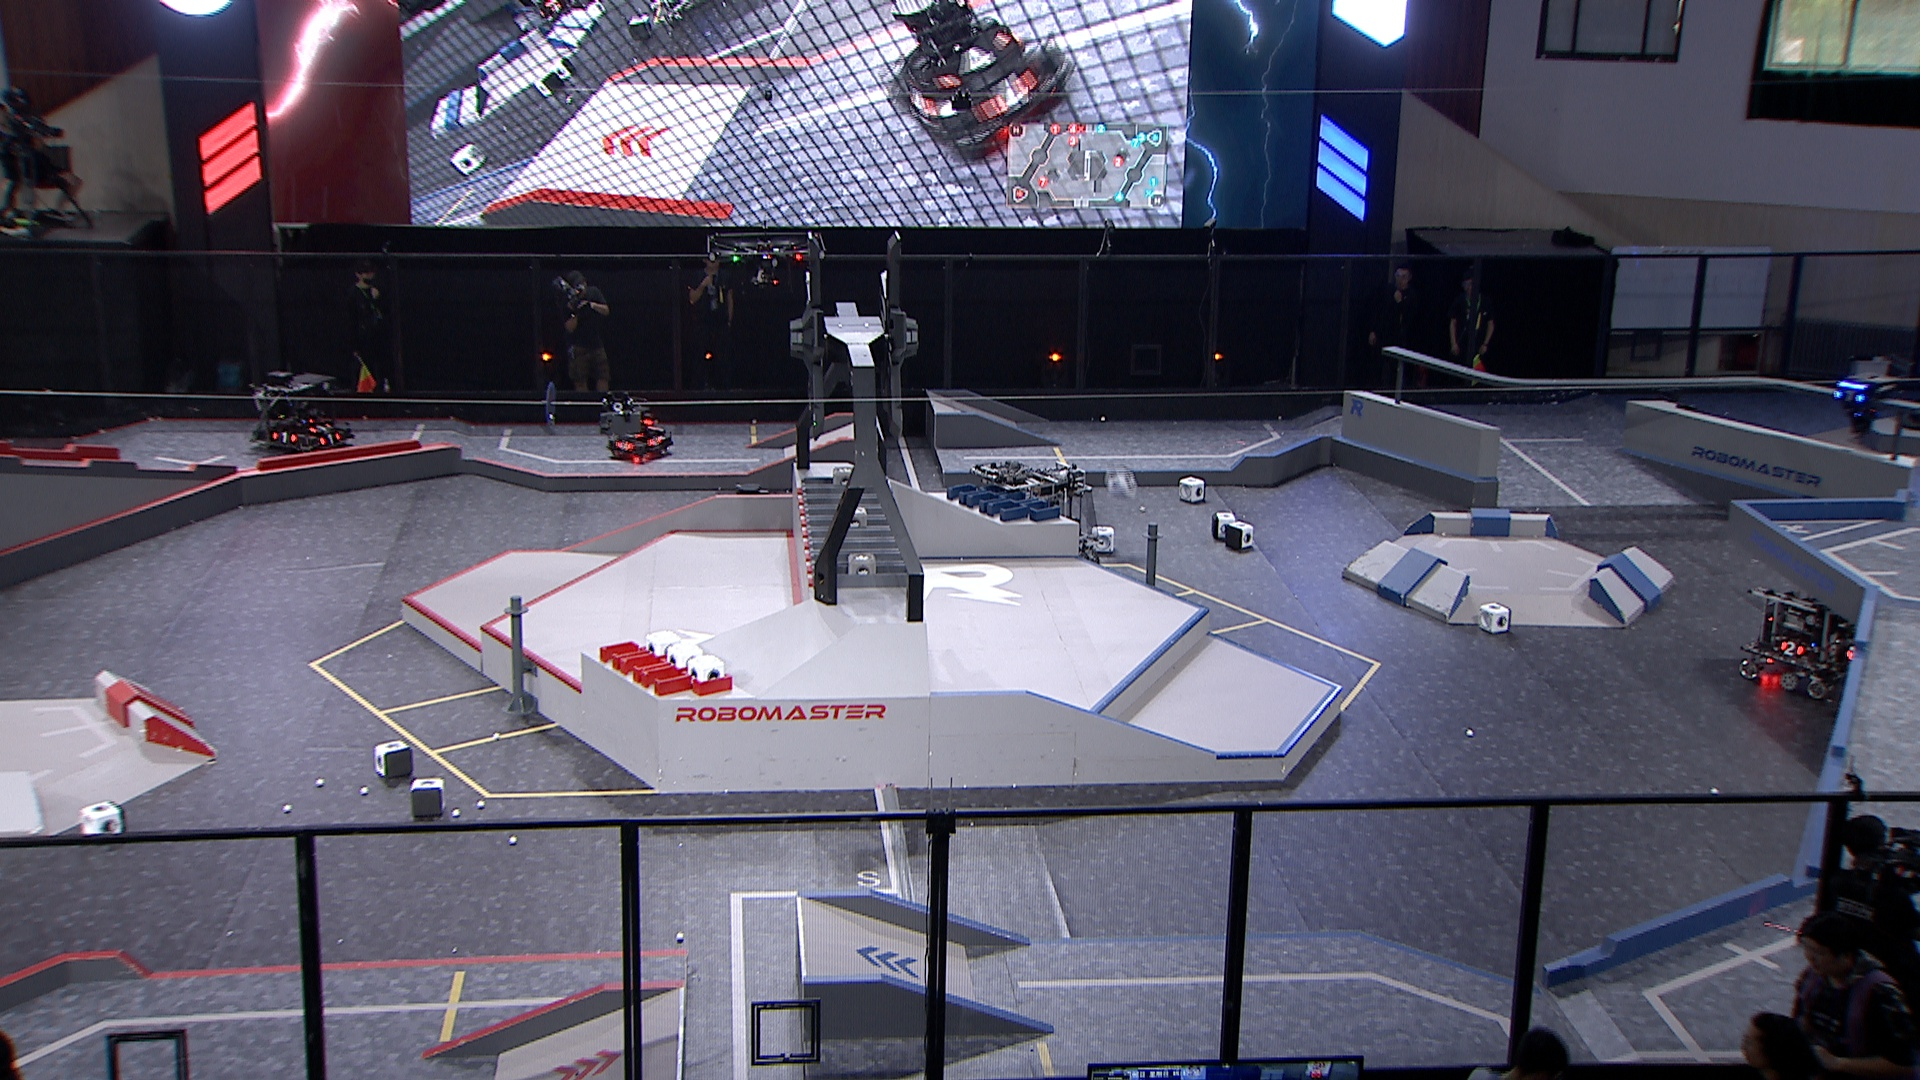armor: (1779, 638, 1807, 659), (1833, 389, 1866, 406), (272, 431, 297, 446), (615, 436, 636, 454), (318, 433, 342, 447), (309, 419, 334, 433), (645, 434, 665, 448)
car: (1742, 578, 1878, 704), (973, 462, 1109, 579), (252, 371, 356, 452), (608, 404, 674, 462)
ignore: (650, 0, 694, 29), (533, 0, 575, 22)
watcher: (1833, 373, 1898, 439)
